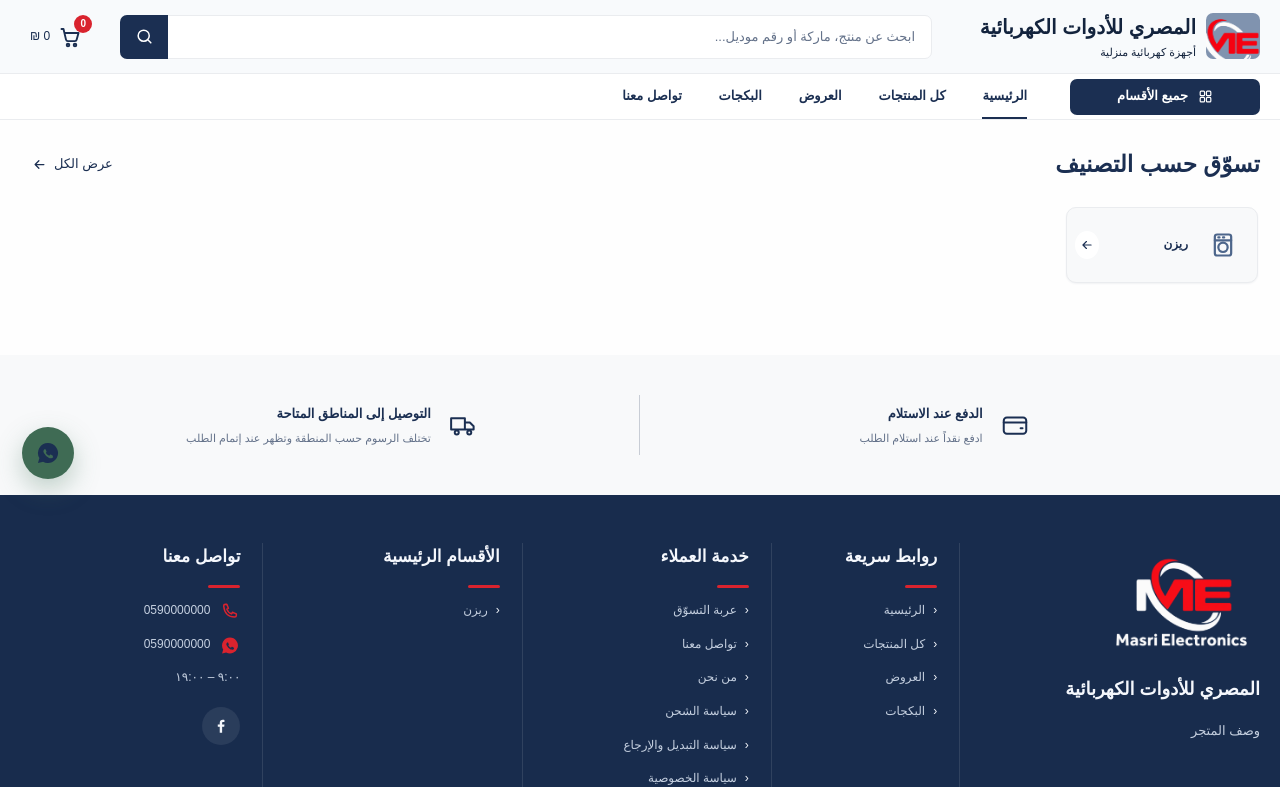
Test: storefront UX polish › links the homepage categories heading to the categories route
The image size is (1280, 787).
Step 1. Click the link "عرض الكل" → coordinates (72, 164), box [32,156,113,172]
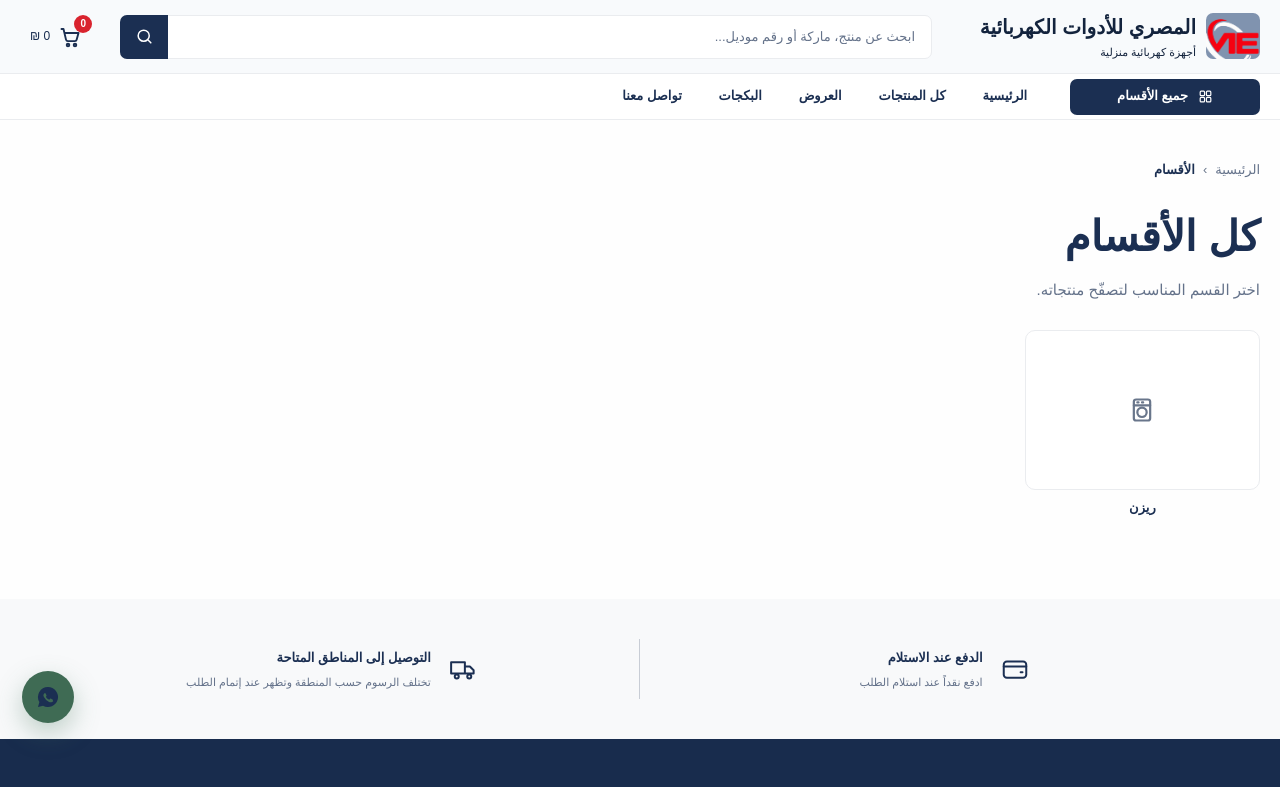
Expected: the heading "كل الأقسام" is shown, [1064,213,1260,260]
